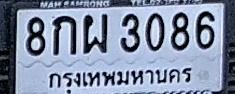0: (146, 12, 164, 51)
3: (120, 13, 140, 52)
6: (196, 10, 214, 48)
8: (26, 16, 45, 55), (171, 12, 189, 50)
A01: (53, 15, 76, 55)
A28: (82, 13, 108, 54)
BKK: (45, 62, 194, 94)
